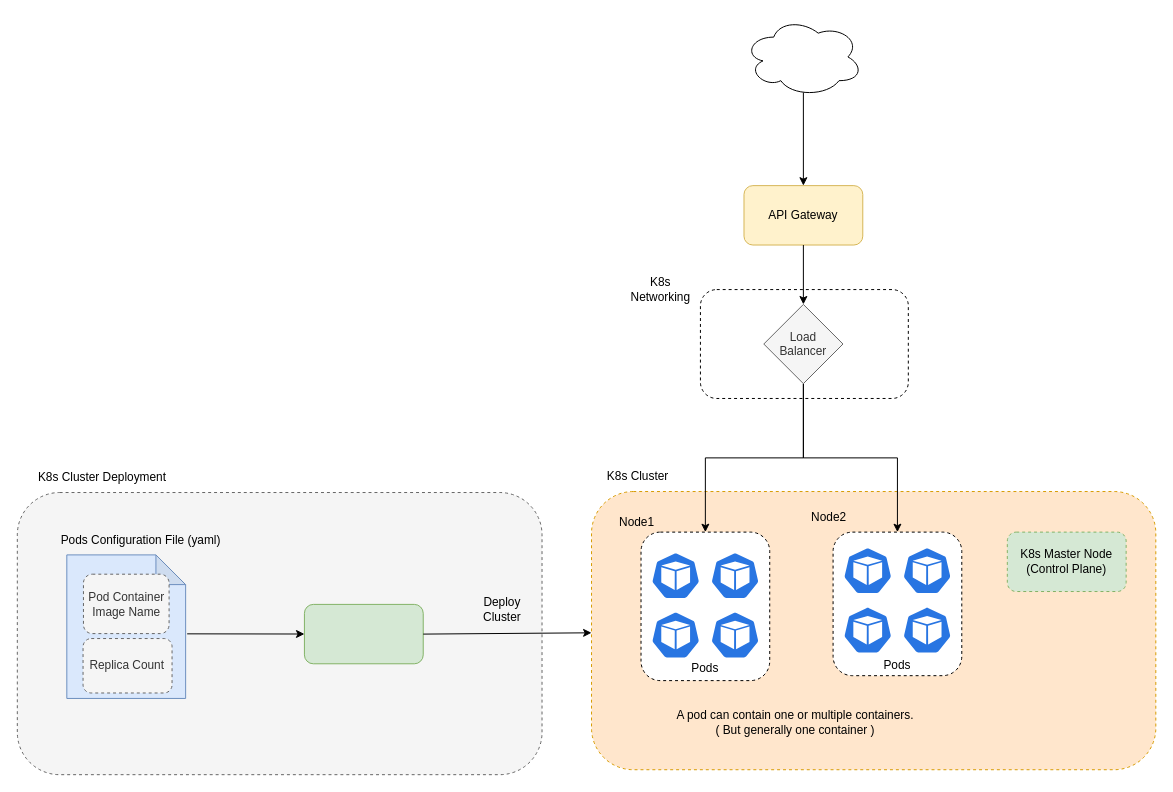
The diagram is 1173 pixels wide and 792 high, and some of its shapes have lost their labels. The centre of each missing label's shape, as x and y in pixels:
"K8s Cluster Services" goes at [363,633].
"User" goes at [803,56].
